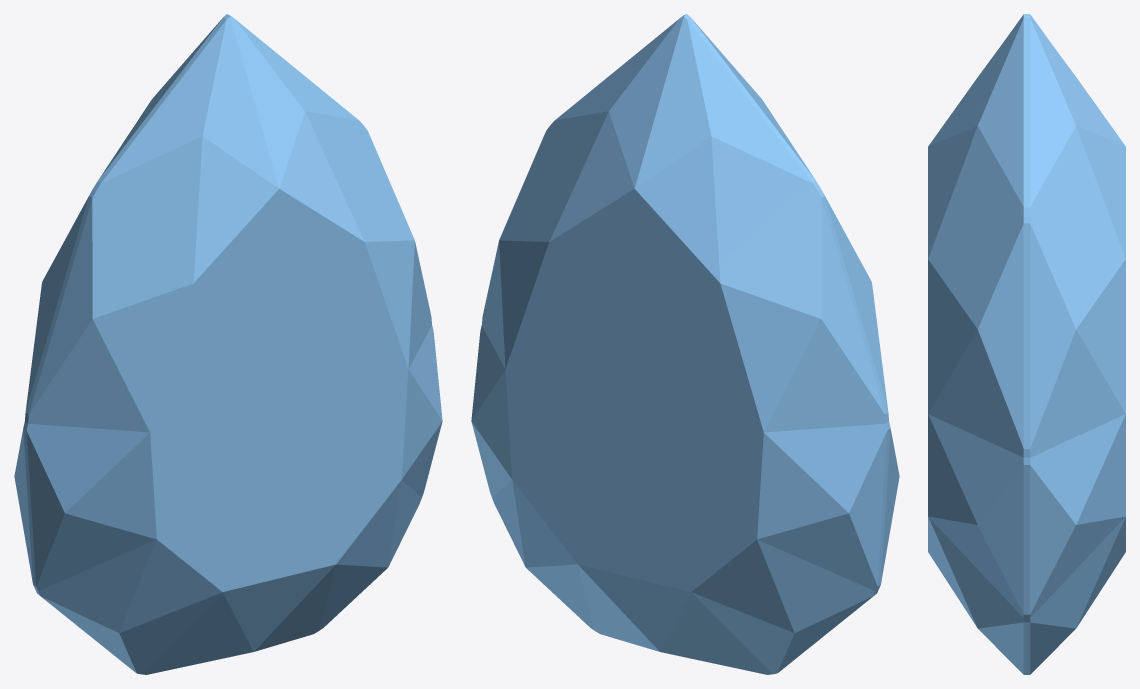
The model's file is jewel3_Diamond.fbx.
3 views of the same model, side by side, from view 1: azimuth 30°, elevation 25°; view 2: azimuth 150°, elevation 25°; view 3: azimuth 270°, elevation 25° (orthographic). The views are drawn at different scales.
Visible parts, largest first — view 1: jewel3_Diamond; view 2: jewel3_Diamond; view 3: jewel3_Diamond.
Boxes of the visible parts, <box> form: jewel3_Diamond: <box>14,14,442,674</box>; jewel3_Diamond: <box>471,14,899,674</box>; jewel3_Diamond: <box>928,14,1125,674</box>.
Bounding box in the file's own units: 0.4382 × 0.6564 × 0.1896.
